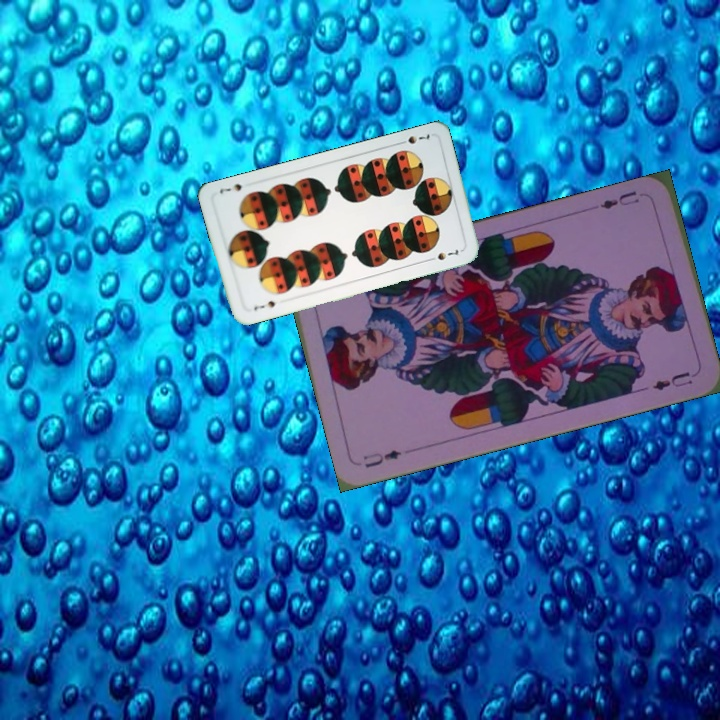EU: (596, 186, 642, 212), (359, 445, 404, 471)
S7: (394, 130, 433, 147), (250, 297, 280, 313)
